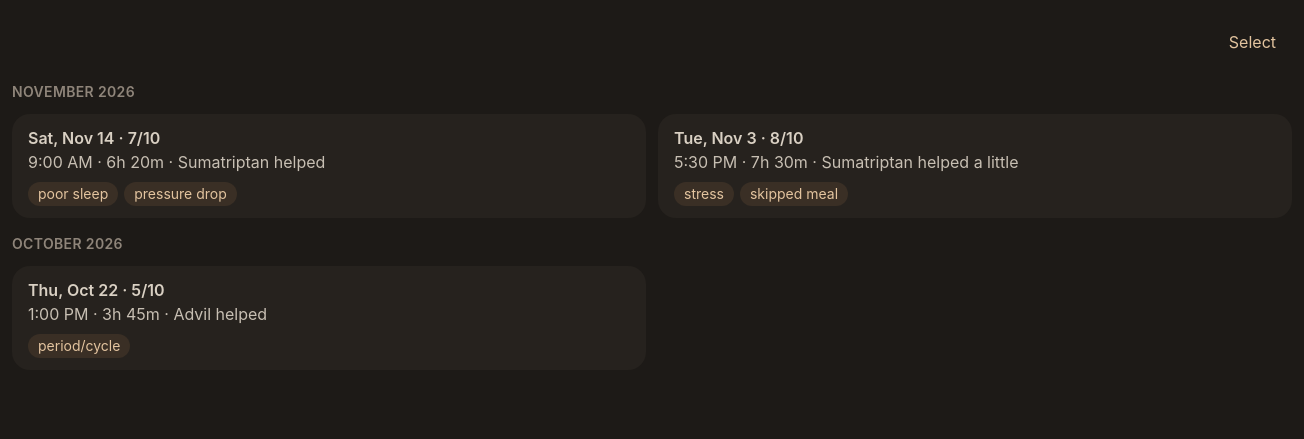
Test case: a failed bulk delete is reported and the selection kept
Click the button "Select". click: [1252, 42]
box: [1213, 18, 1292, 66]
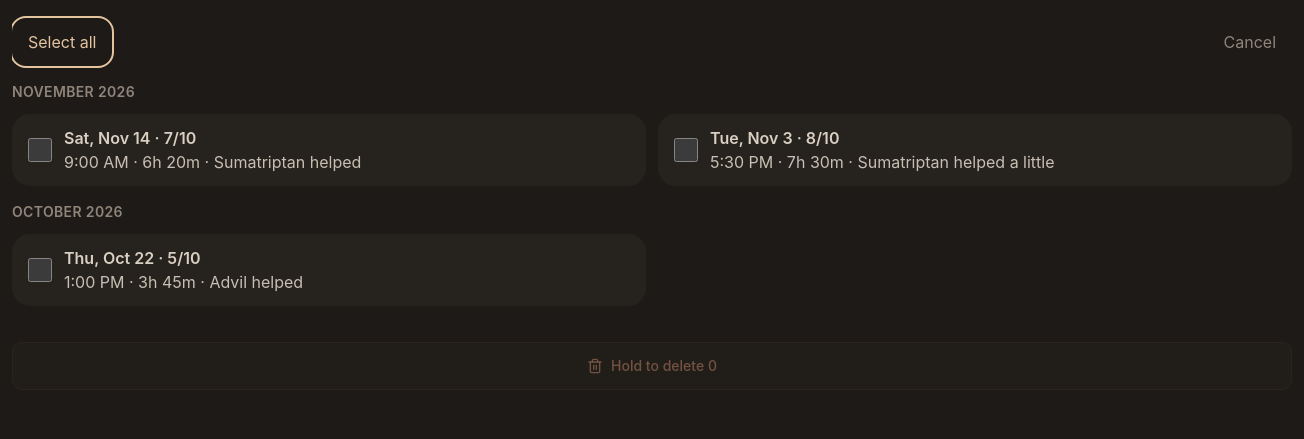
Click the button "Select all". click: [62, 42]
box: [12, 18, 112, 66]
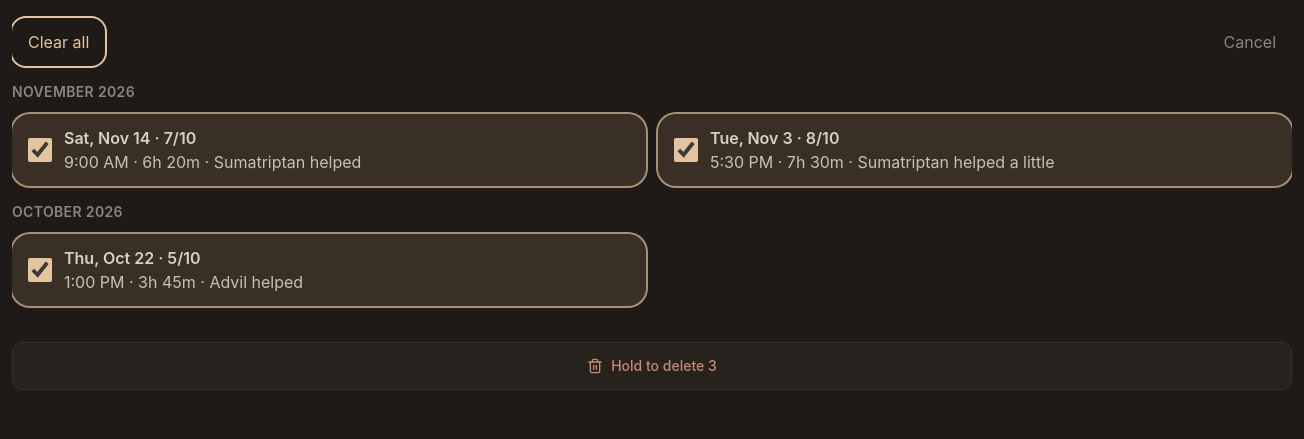
Press the mouse on the button "Hold to delete 3" at [652, 366], box [12, 342, 1292, 390]
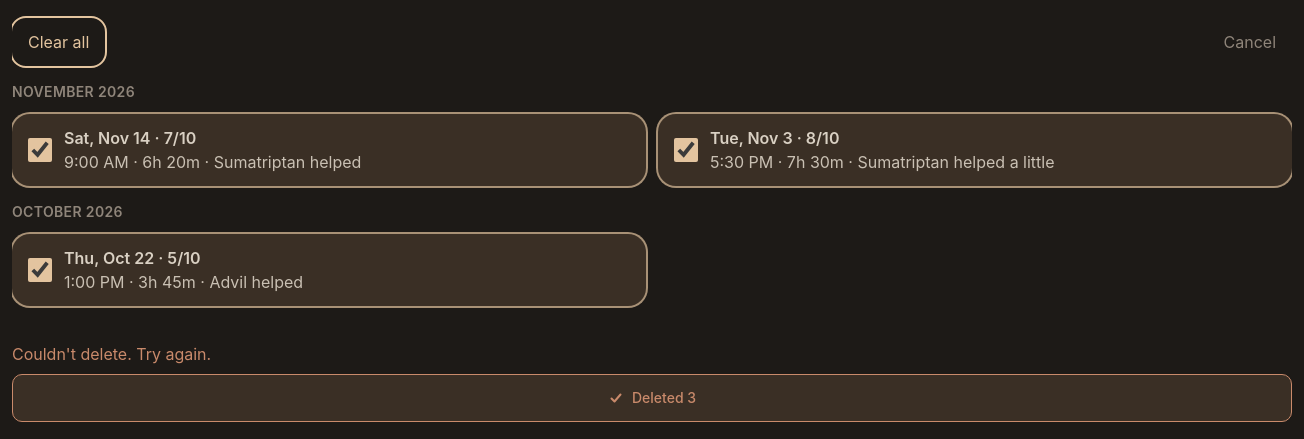
Check: the text "Couldn't delete. Try again." is shown, box [12, 344, 211, 364]
